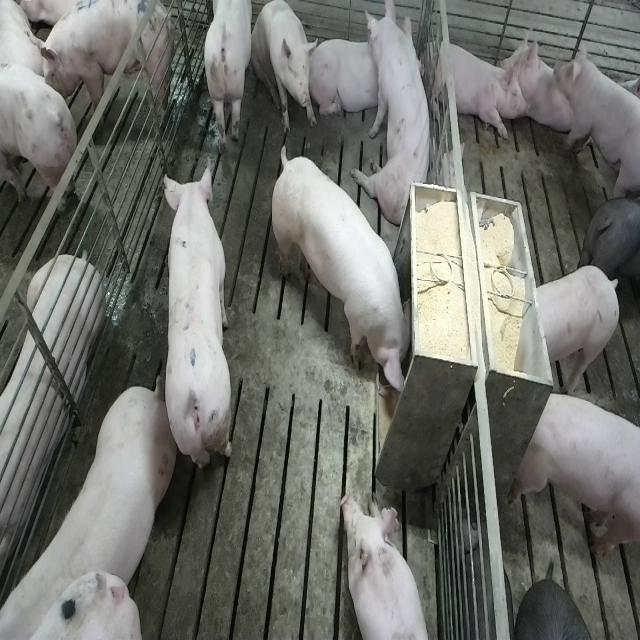Feeding: (274, 146, 420, 397)
Sitting: (356, 4, 437, 227), (252, 0, 316, 138)
Standing: (513, 386, 639, 565), (162, 162, 233, 478), (44, 0, 176, 132), (556, 43, 638, 203), (535, 265, 622, 398), (0, 64, 76, 208), (202, 2, 255, 154), (583, 191, 640, 313)
Sternal_lying: (0, 250, 102, 577), (341, 490, 433, 640), (500, 26, 573, 138), (311, 34, 384, 123)
